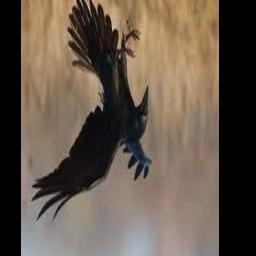Crow: (32, 0, 152, 224)
